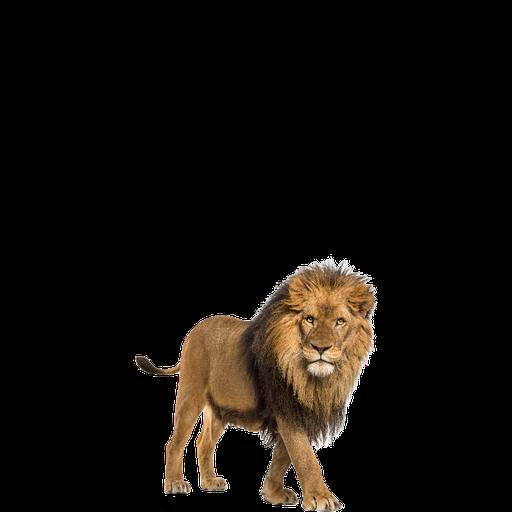Lion: (116, 243, 395, 512)
